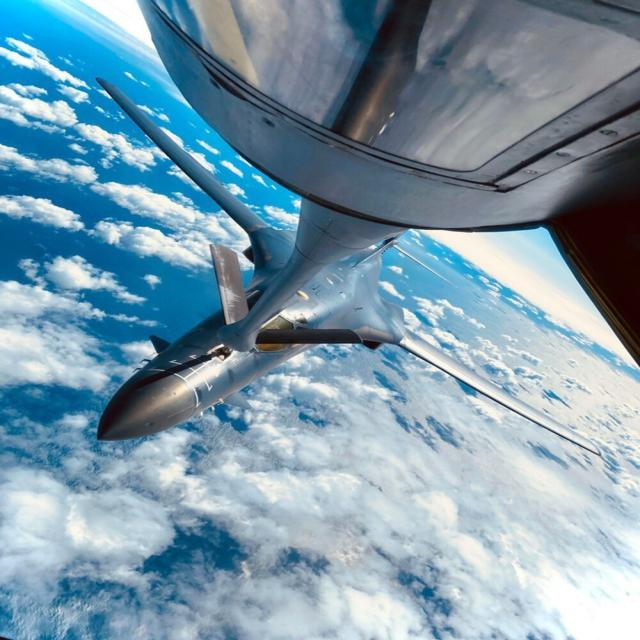MIL_Plane: (95, 76, 601, 456)
